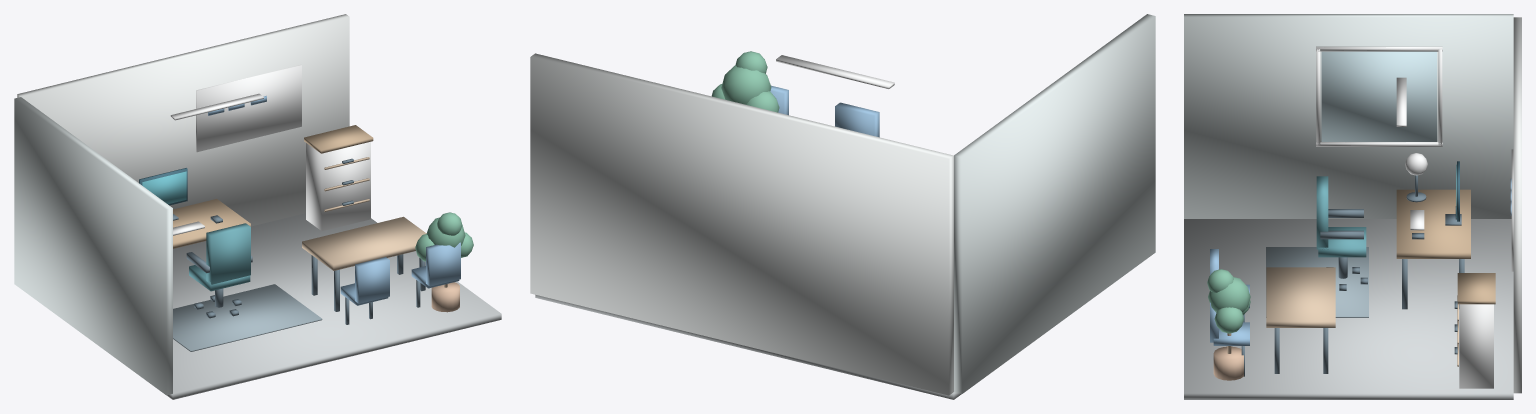
Rendered from office.glb.
3 views of the same model, side by side, from view 1: azimuth 30°, elevation 25°; view 2: azimuth 150°, elevation 25°; view 3: azimuth 270°, elevation 25° (orthographic). The views are drawn at different scales.
Visible parts, largest first — view 1: 003_back_wall, 004_left_wall, 001_floor, 052_whiteboard, 002_carpet_tile, 044_storage_body, 031_meeting_table, 022_office_chair_back, 010_working_desk, 037_visitor_back, 041_visitor_back, 045_storage_top (+6 smaller); view 2: 003_back_wall, 004_left_wall, 001_floor, 058_plant_leaf, 037_visitor_back, 062_ceiling_strip; view 3: 004_left_wall, 001_floor, 005_glazed_window, 010_working_desk, 031_meeting_table, 003_back_wall, 002_carpet_tile, 044_storage_body, 045_storage_top, 021_office_chair_seat, 058_plant_leaf, 056_plant_pot (+15 smaller).
Boxes of the visible parts, x1,y1,x2,y2 form: 003_back_wall: [17, 14, 349, 226]; 004_left_wall: [14, 97, 172, 395]; 001_floor: [167, 213, 501, 399]; 052_whiteboard: [196, 65, 301, 152]; 002_carpet_tile: [173, 284, 322, 351]; 044_storage_body: [306, 141, 370, 231]; 031_meeting_table: [302, 216, 426, 270]; 022_office_chair_back: [206, 223, 250, 284]; 010_working_desk: [173, 199, 250, 248]; 037_visitor_back: [355, 257, 389, 303]; 041_visitor_back: [426, 242, 460, 286]; 045_storage_top: [304, 125, 373, 153]; 003_back_wall: [530, 53, 953, 395]; 004_left_wall: [954, 14, 1155, 393]; 001_floor: [535, 294, 961, 399]; 058_plant_leaf: [721, 65, 771, 104]; 037_visitor_back: [835, 102, 879, 137]; 062_ceiling_strip: [776, 55, 894, 88]; 004_left_wall: [1184, 14, 1513, 218]; 001_floor: [1184, 219, 1513, 399]; 005_glazed_window: [1321, 51, 1436, 141]; 010_working_desk: [1396, 189, 1470, 258]; 031_meeting_table: [1266, 267, 1335, 327]; 003_back_wall: [1513, 17, 1521, 393]; 002_carpet_tile: [1266, 247, 1368, 317]; 044_storage_body: [1459, 304, 1493, 388]; 045_storage_top: [1457, 273, 1495, 304]; 021_office_chair_seat: [1318, 227, 1366, 257]; 058_plant_leaf: [1208, 277, 1250, 312]; 056_plant_pot: [1213, 346, 1243, 380].
Bounding box in the file's own units: 5.1 × 2.79 × 4.1.
